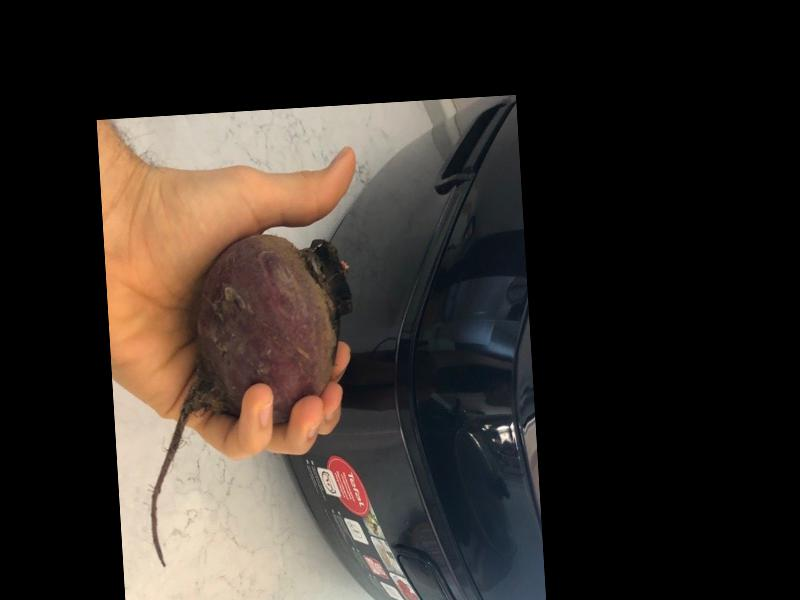Beet: (133, 229, 366, 568)
